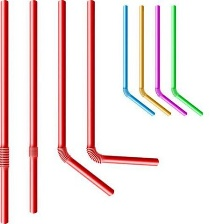drinking_straw: (82, 0, 163, 172), (54, 0, 117, 200), (169, 2, 212, 118), (23, 0, 43, 216), (0, 0, 13, 224)
